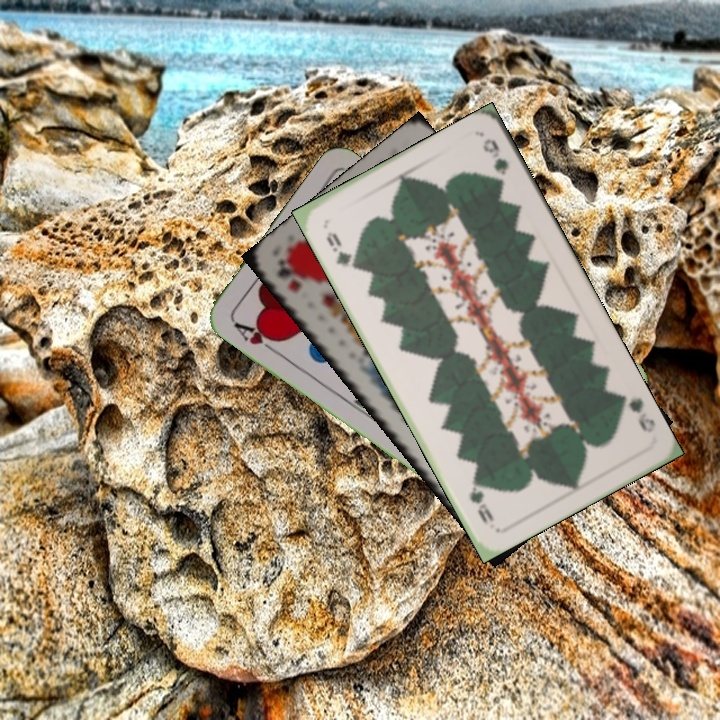G9: (616, 390, 659, 435), (322, 227, 361, 272)
HA: (229, 318, 282, 357)
HK: (272, 255, 304, 296)
